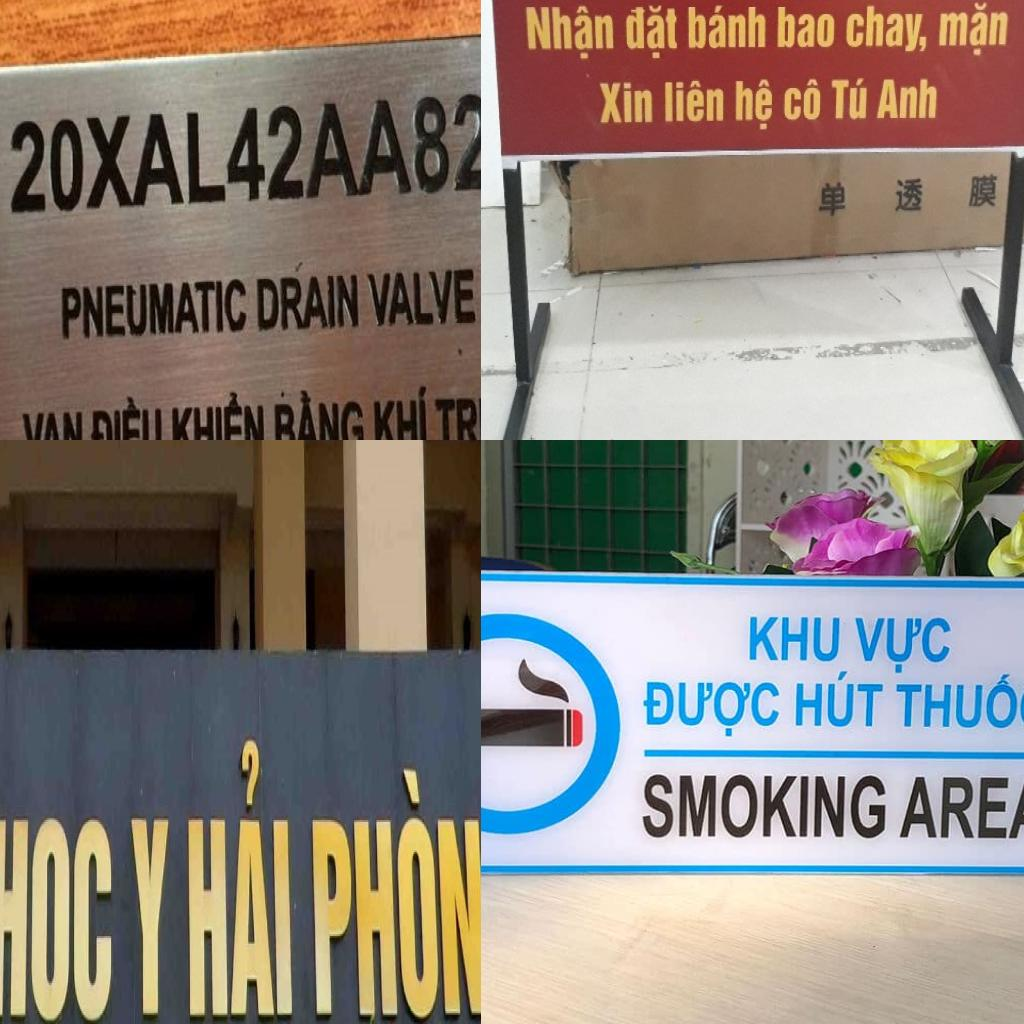text: (1, 81, 481, 217), (307, 760, 481, 1024), (186, 732, 294, 1024), (0, 808, 114, 1024), (640, 772, 888, 843), (57, 277, 249, 346), (129, 811, 172, 1022), (643, 678, 782, 739), (894, 672, 1024, 733), (366, 262, 478, 330), (251, 272, 361, 334), (853, 615, 953, 676), (526, 1, 615, 64), (794, 670, 884, 730), (841, 2, 930, 60), (167, 389, 268, 440), (935, 2, 1012, 66), (273, 390, 364, 440), (686, 2, 768, 56), (748, 616, 842, 662), (620, 1, 682, 68), (369, 381, 431, 440), (85, 395, 165, 440), (876, 75, 940, 125), (661, 79, 726, 128), (730, 72, 780, 135), (594, 78, 655, 129), (774, 4, 836, 53), (433, 385, 481, 440), (11, 411, 88, 440), (828, 76, 871, 126), (783, 78, 823, 128)
